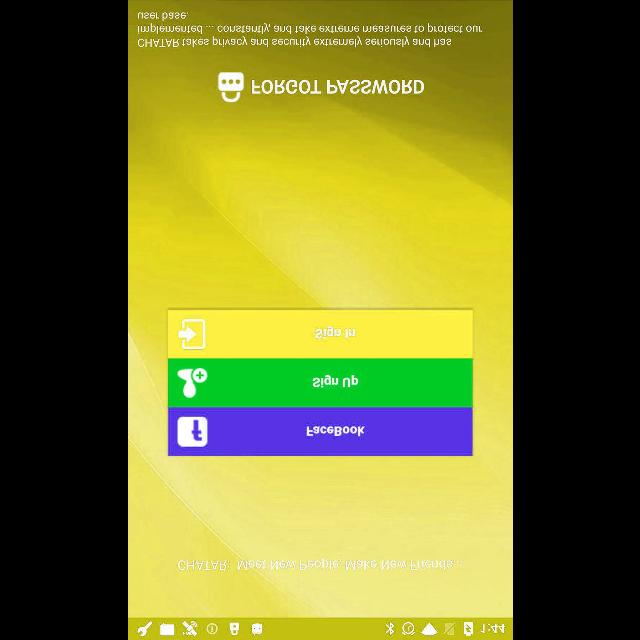icon: (216, 72, 244, 102)
text: (134, 8, 484, 49), (176, 557, 462, 571), (251, 80, 424, 94)
textbutton: (168, 358, 472, 408), (168, 310, 472, 358), (168, 408, 472, 456)
uppertaskbar: (128, 617, 512, 639)
